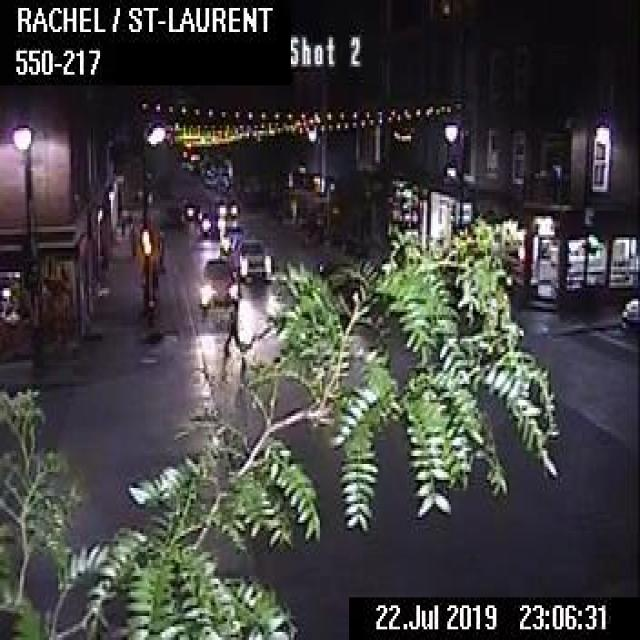pedestrian: (222, 288, 247, 357), (128, 222, 136, 255)
vehicle: (195, 256, 236, 306), (233, 235, 272, 280), (218, 220, 245, 252), (201, 204, 224, 237), (618, 288, 638, 325), (215, 196, 238, 216)
